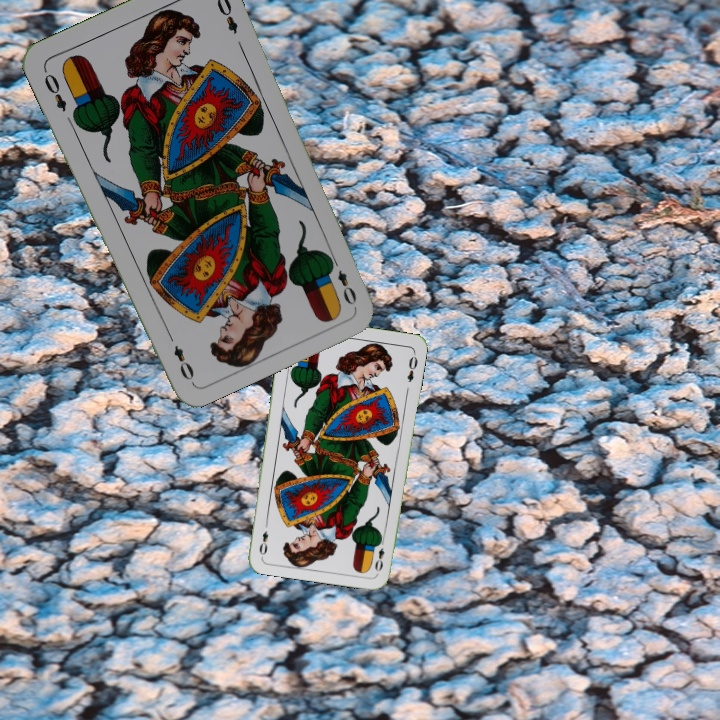EO: (326, 252, 359, 308), (40, 69, 69, 114), (371, 534, 387, 574)
